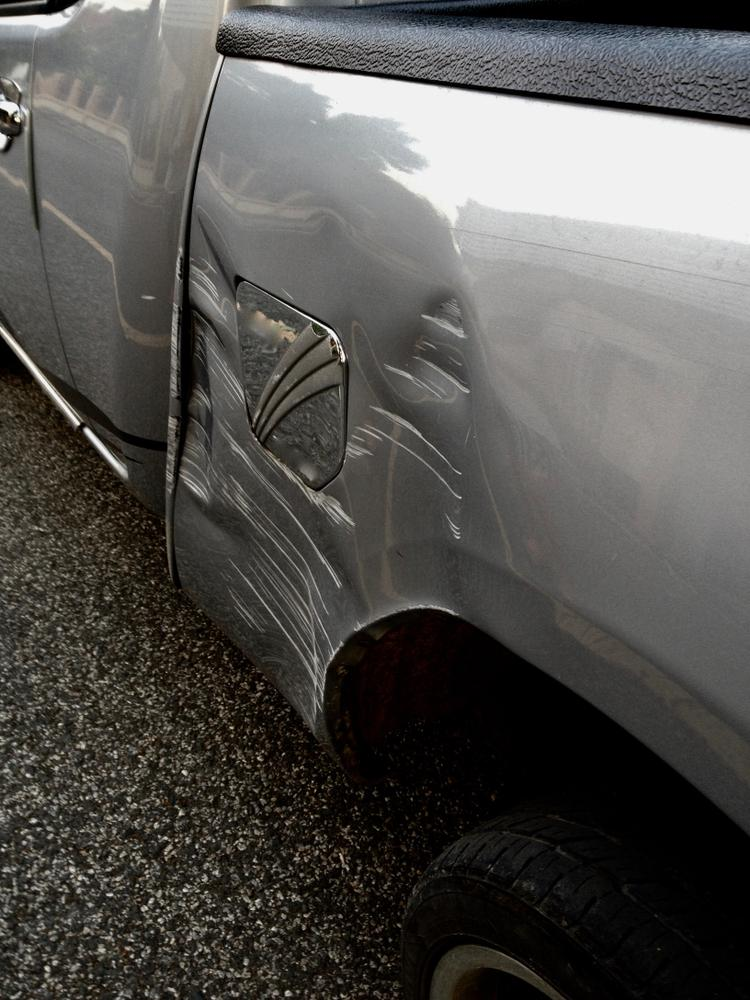dent: (172, 204, 469, 744)
